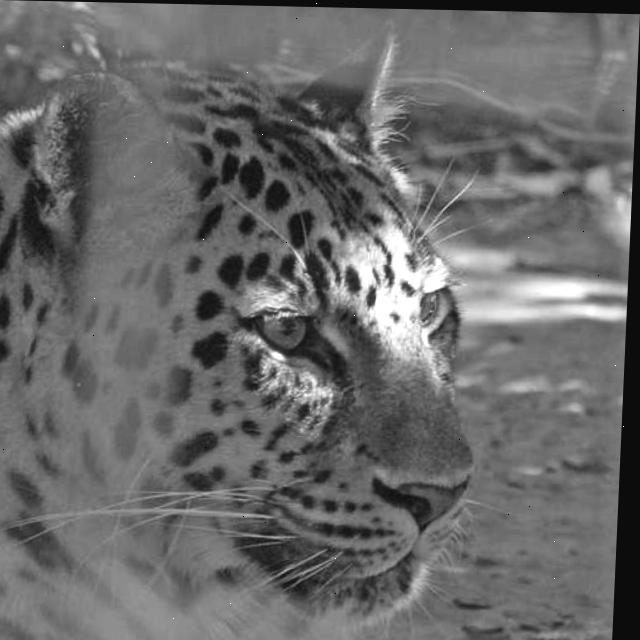Leopard: (0, 29, 518, 626)
